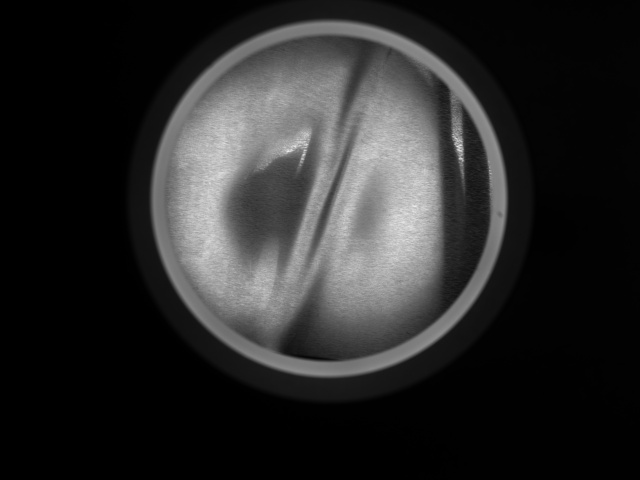zhe_zhou: (208, 71, 453, 325)
